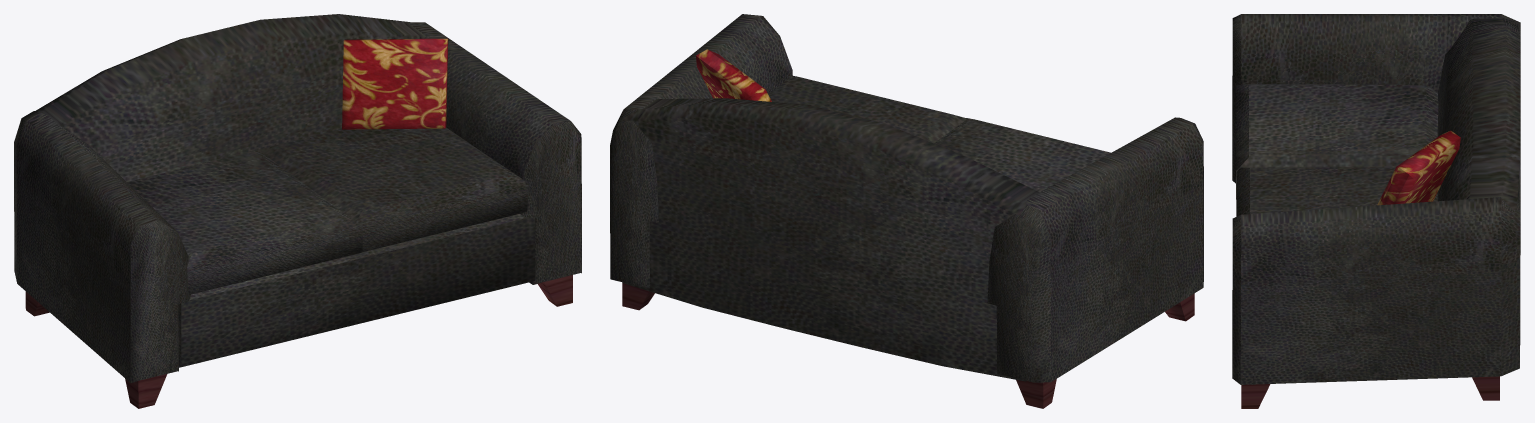
File: couch1.obj
3 views of the same model, side by side, from view 1: azimuth 30°, elevation 25°; view 2: azimuth 150°, elevation 25°; view 3: azimuth 270°, elevation 25° (orthographic). The views are drawn at different scales.
Visible parts, largest first — view 1: br_couch2, br_couch3; view 2: br_couch2, br_couch3; view 3: br_couch2, br_couch3.
Boxes of the visible parts, bbox=[...] form: br_couch2: bbox=[14, 14, 581, 408]; br_couch3: bbox=[342, 38, 448, 129]; br_couch2: bbox=[610, 14, 1203, 408]; br_couch3: bbox=[696, 49, 771, 101]; br_couch2: bbox=[1232, 14, 1520, 408]; br_couch3: bbox=[1377, 130, 1460, 205].
Bounding box in the file's own units: 85.77 × 42.02 × 47.36.
Materials: 2 (2 with a texture image).
